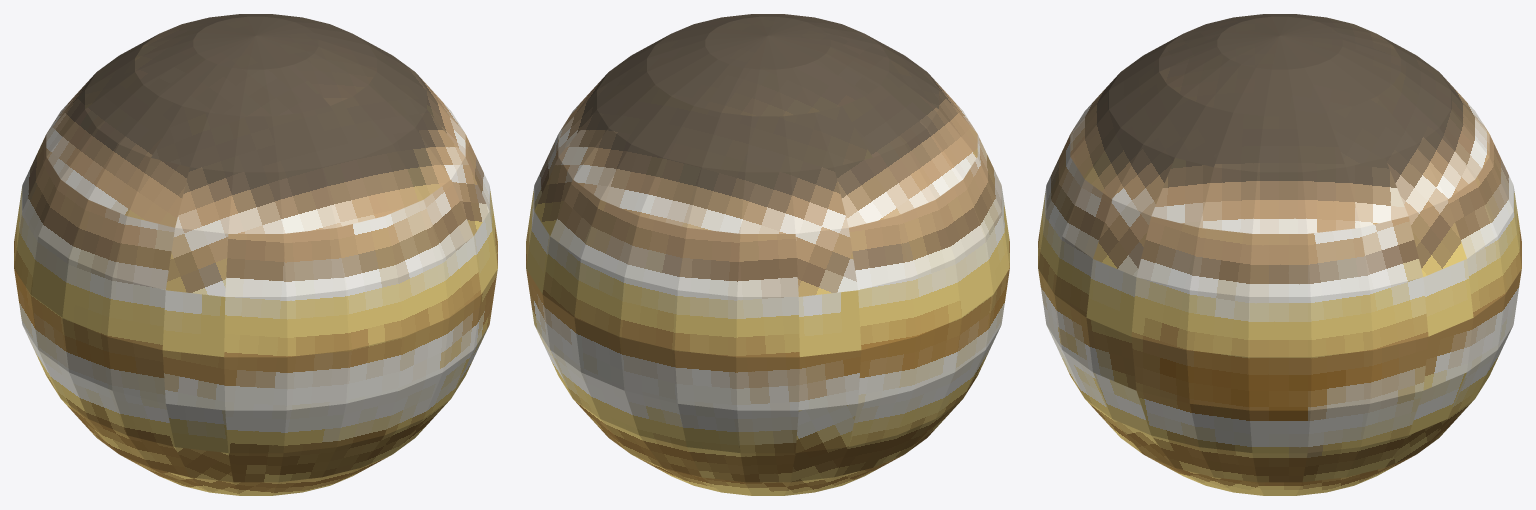
Rendered from jupiter.fbx.
3 renders of one model, left to right at view 1: azimuth 30°, elevation 25°; view 2: azimuth 150°, elevation 25°; view 3: azimuth 270°, elevation 25°, orthographic.
Visible parts, largest first — view 1: sphere; view 2: sphere; view 3: sphere.
Part boxes in pixels (x1,y1,x2,y2): sphere: [14, 14, 497, 495]; sphere: [526, 14, 1009, 495]; sphere: [1038, 14, 1521, 495].
Size of the model in its own units: 234 by 234 by 234.
Materials: 1 (1 with a texture image).
